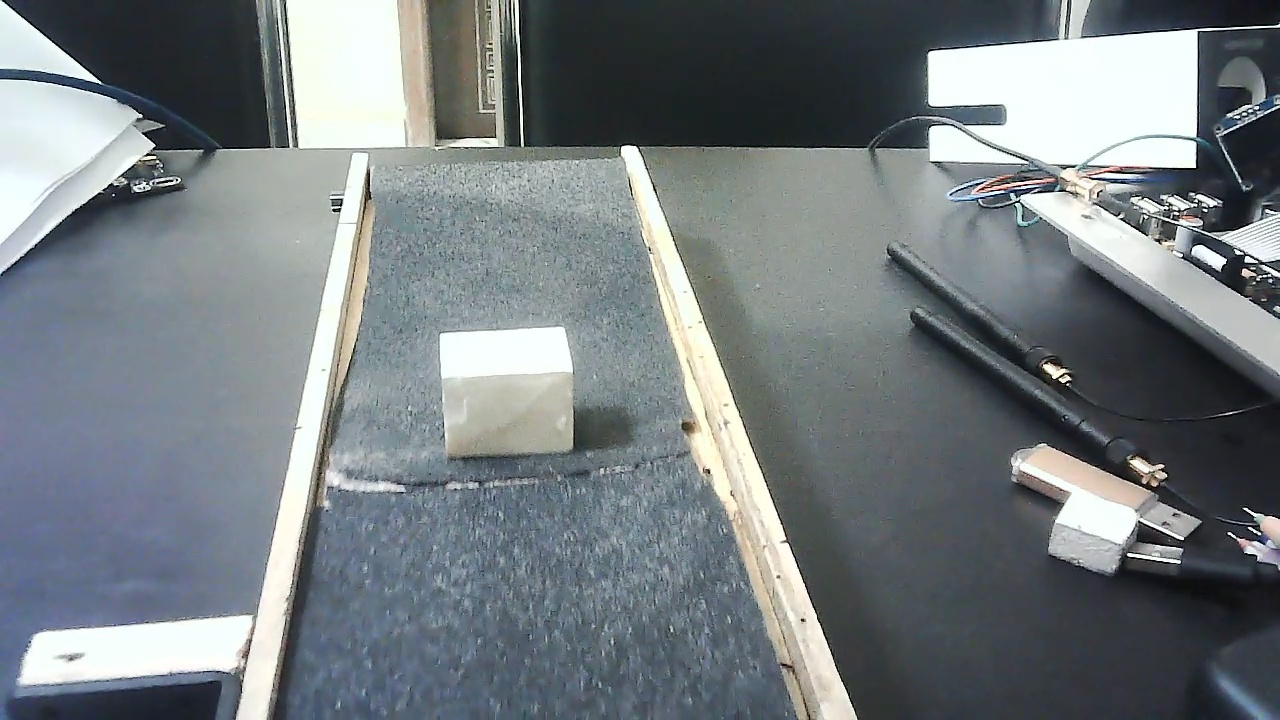Medium: (437, 324, 572, 459)
